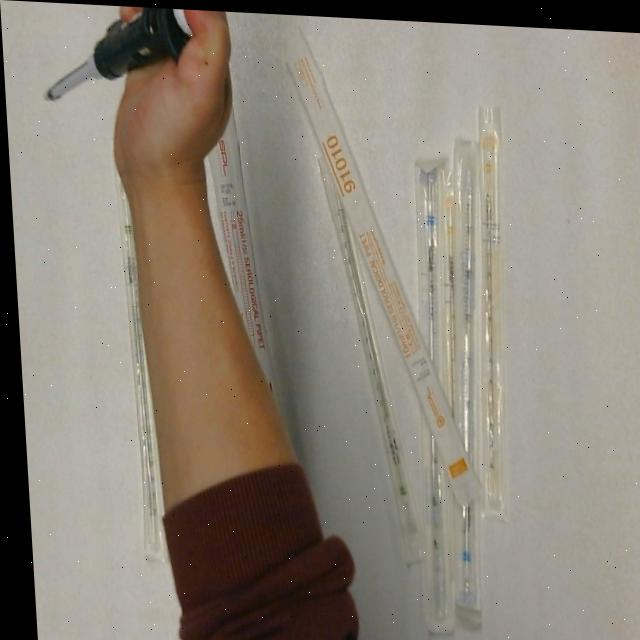Serelogical Pipet 1 mL: (453, 97, 526, 514), (423, 161, 473, 415)
Serelogical Pipet 10 mL: (280, 13, 480, 504)
Serelogical Pipet 2 mL: (293, 139, 428, 565), (112, 145, 165, 566)
Serelogical Pipet 25 mL: (184, 43, 290, 545)
Serelogical Pipet 5 mL: (426, 131, 503, 612), (395, 144, 463, 628)
Single Channel Pipettor: (23, 1, 243, 114)
